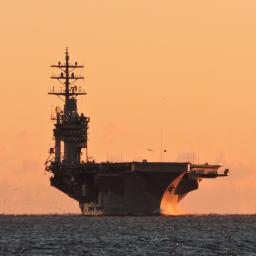Portanaves: (46, 47, 233, 218)
